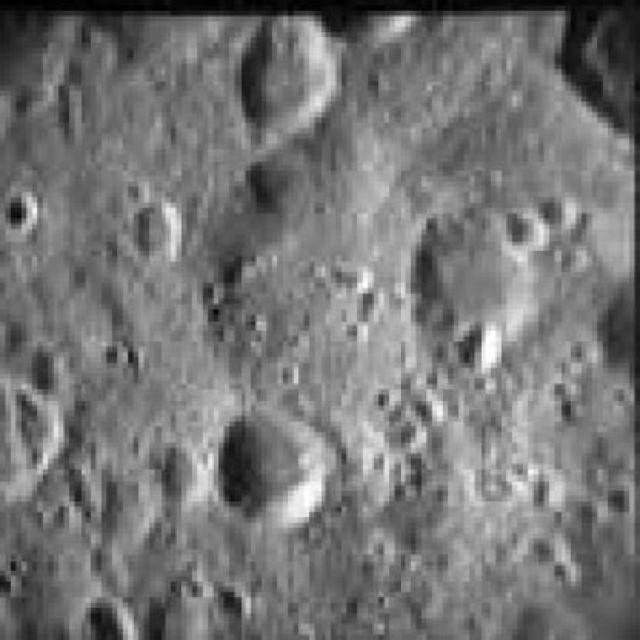crater: (207, 404, 331, 528), (234, 17, 335, 131), (1, 183, 36, 234)
